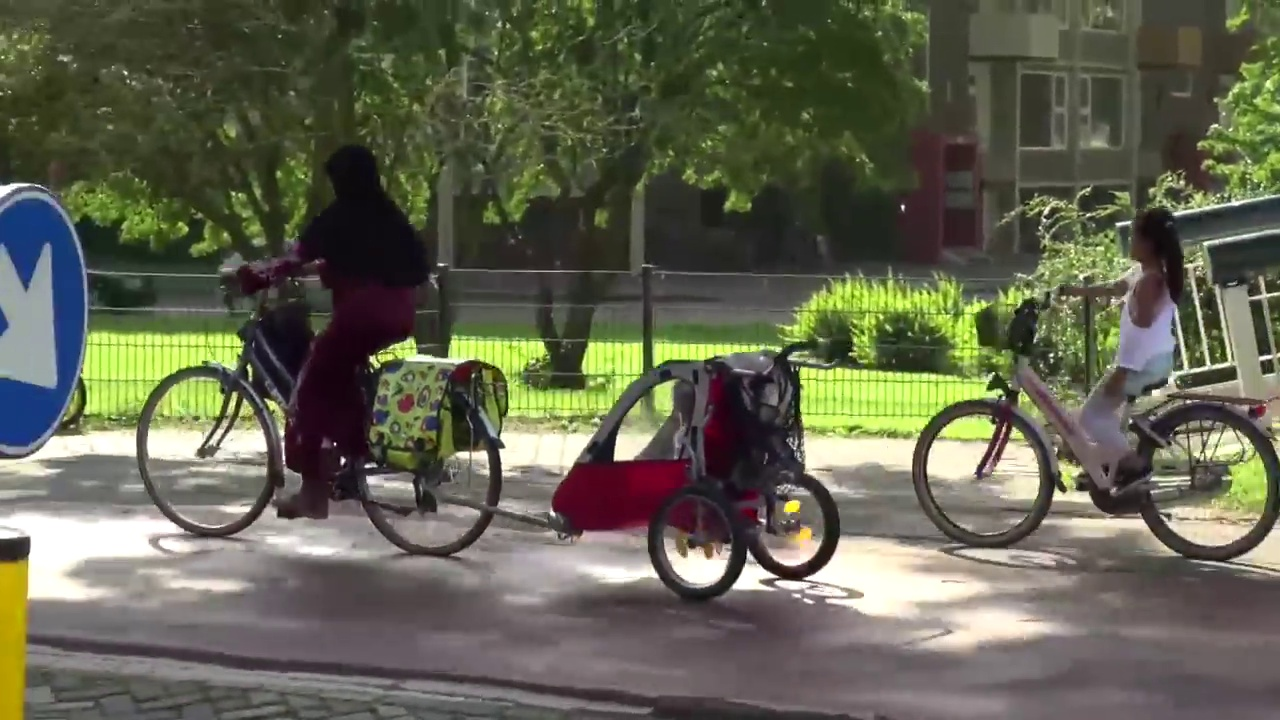cyclist_side: (140, 135, 513, 563), (916, 187, 1272, 567)
